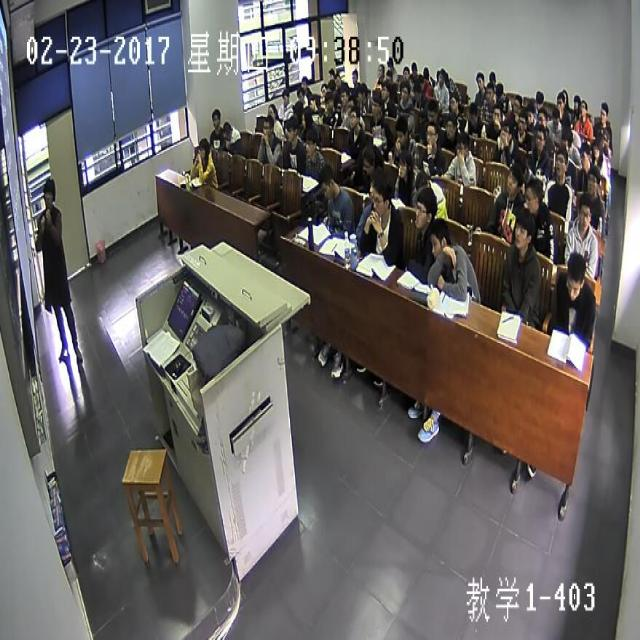person: (563, 246, 588, 305), (424, 213, 450, 264), (510, 210, 536, 260), (368, 173, 388, 217), (413, 188, 435, 227), (575, 189, 593, 235), (522, 176, 540, 214), (319, 166, 336, 203), (504, 162, 520, 200), (395, 146, 411, 181), (361, 144, 377, 178), (42, 176, 58, 208), (551, 147, 567, 179), (443, 110, 458, 144), (412, 167, 429, 196), (587, 164, 602, 196), (424, 119, 438, 152), (511, 150, 526, 180), (303, 127, 317, 159), (392, 116, 408, 144), (456, 130, 470, 162), (364, 167, 378, 198), (498, 118, 511, 150), (560, 126, 573, 156), (197, 133, 209, 164), (576, 141, 590, 167), (425, 98, 437, 128), (596, 97, 609, 124), (466, 97, 478, 125), (209, 105, 222, 130), (284, 117, 296, 143), (369, 90, 381, 116), (474, 67, 486, 93), (516, 110, 527, 137), (535, 123, 546, 150), (550, 104, 561, 131), (261, 116, 273, 139), (300, 105, 311, 130), (324, 89, 334, 116), (491, 105, 502, 129), (536, 106, 548, 128), (347, 109, 359, 130), (266, 98, 275, 124), (450, 91, 460, 114), (484, 83, 494, 106), (494, 78, 504, 101), (222, 118, 232, 140), (280, 86, 290, 108), (524, 104, 534, 126), (534, 90, 544, 110), (591, 139, 601, 159), (298, 71, 307, 93), (333, 72, 343, 90), (339, 84, 348, 104), (399, 64, 409, 82), (571, 92, 580, 112), (347, 95, 355, 117), (511, 92, 519, 114), (308, 91, 317, 110), (375, 60, 384, 79), (399, 82, 408, 101), (560, 86, 569, 105), (600, 128, 609, 147), (325, 63, 335, 80), (436, 68, 445, 86), (318, 82, 328, 98), (556, 92, 564, 112), (355, 82, 363, 101), (408, 59, 416, 78), (488, 68, 496, 87), (296, 87, 304, 105), (380, 79, 388, 97), (579, 96, 587, 114), (384, 67, 392, 84), (386, 55, 393, 74), (350, 67, 358, 83), (416, 76, 424, 91), (422, 64, 430, 79), (412, 82, 419, 98)
